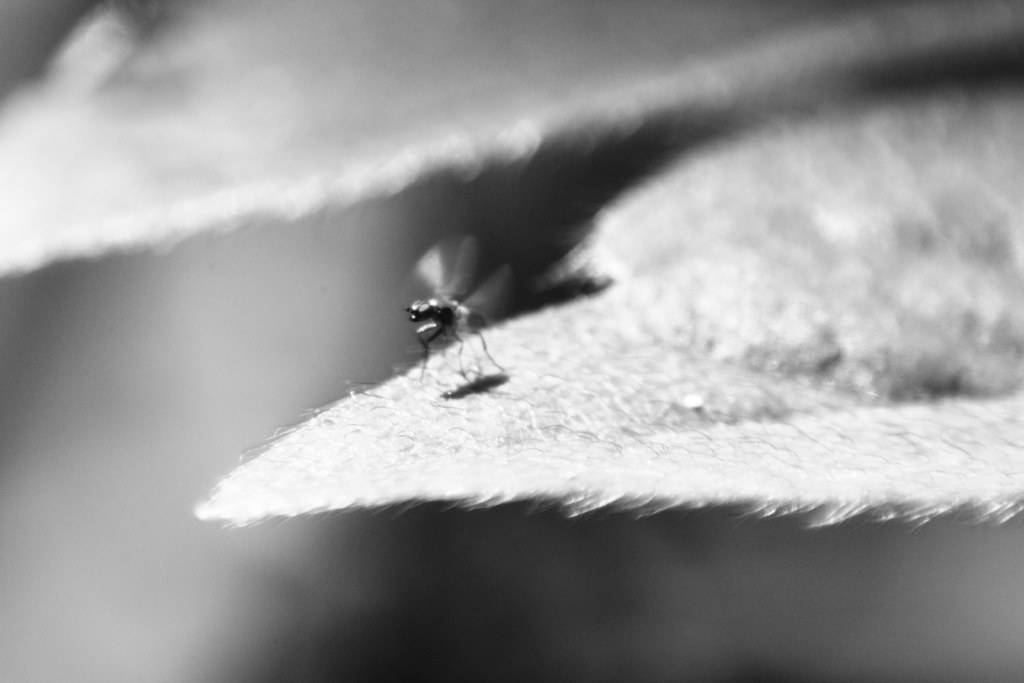insect: (404, 238, 514, 379)
